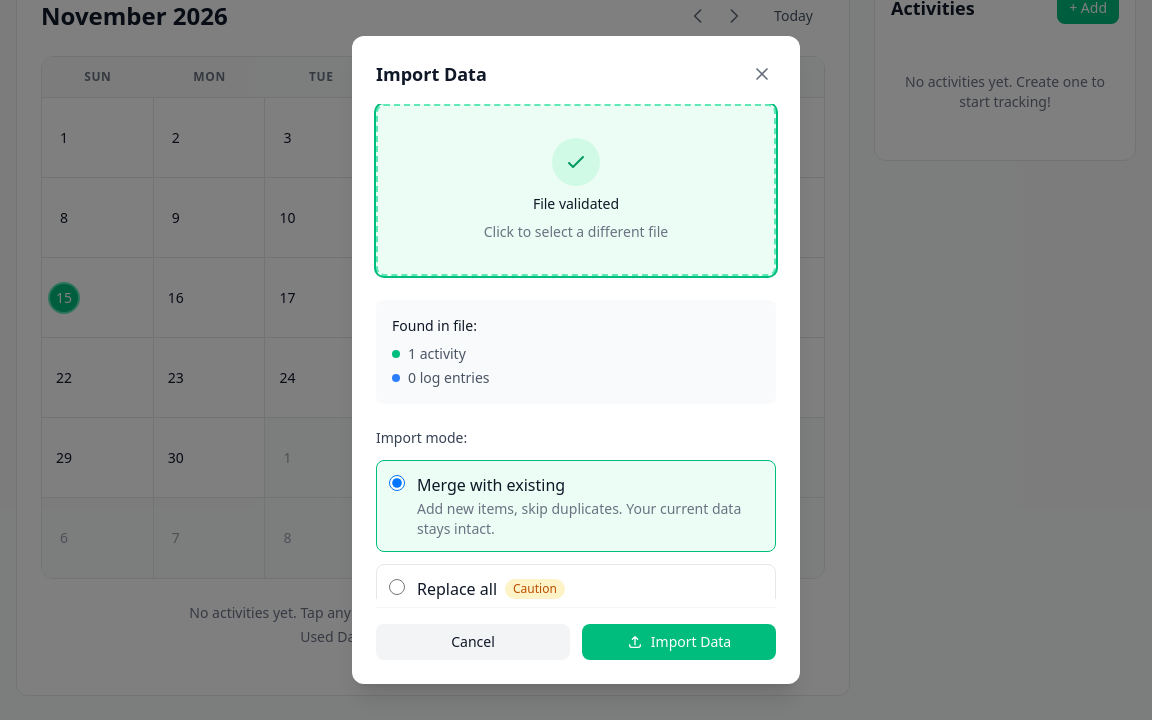
Test: the way into import from an empty app › leaves focus on the month after an import fills the calendar
Earlier steps of the test are not shown.
(page scrolled)
Click the button "Import Data" at (679, 642), box [582,624,776,660]
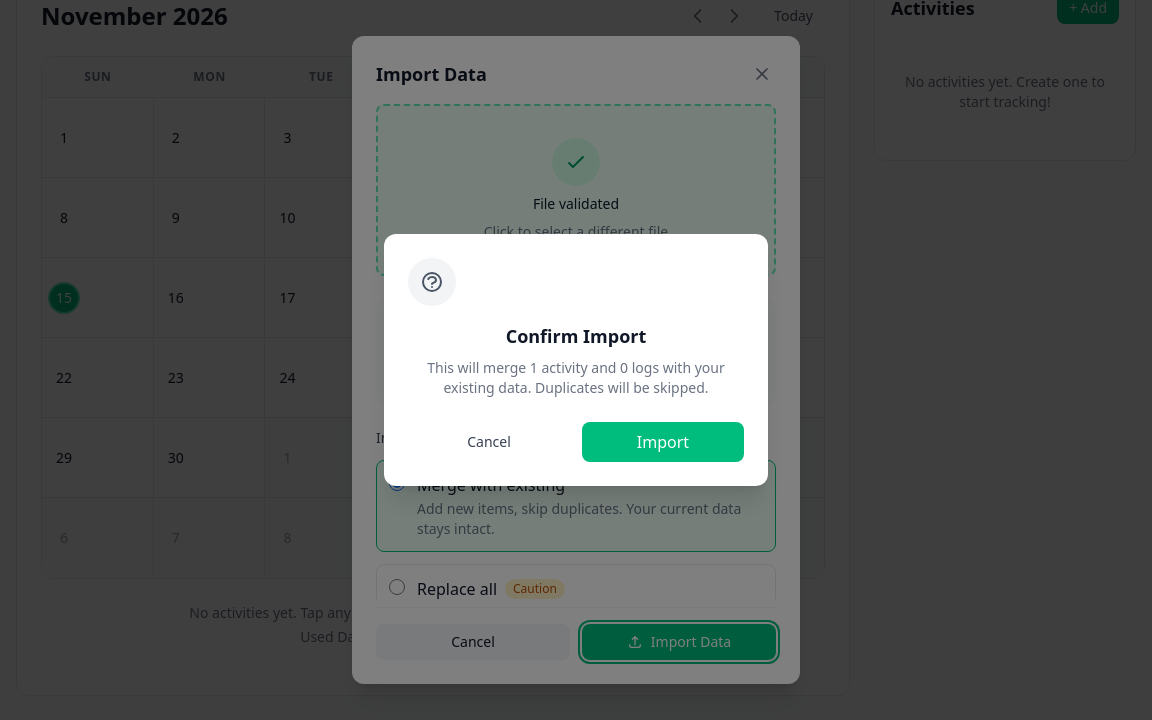
Click the button "Import" at (663, 442), box [582,422,744,462]
(page scrolled)
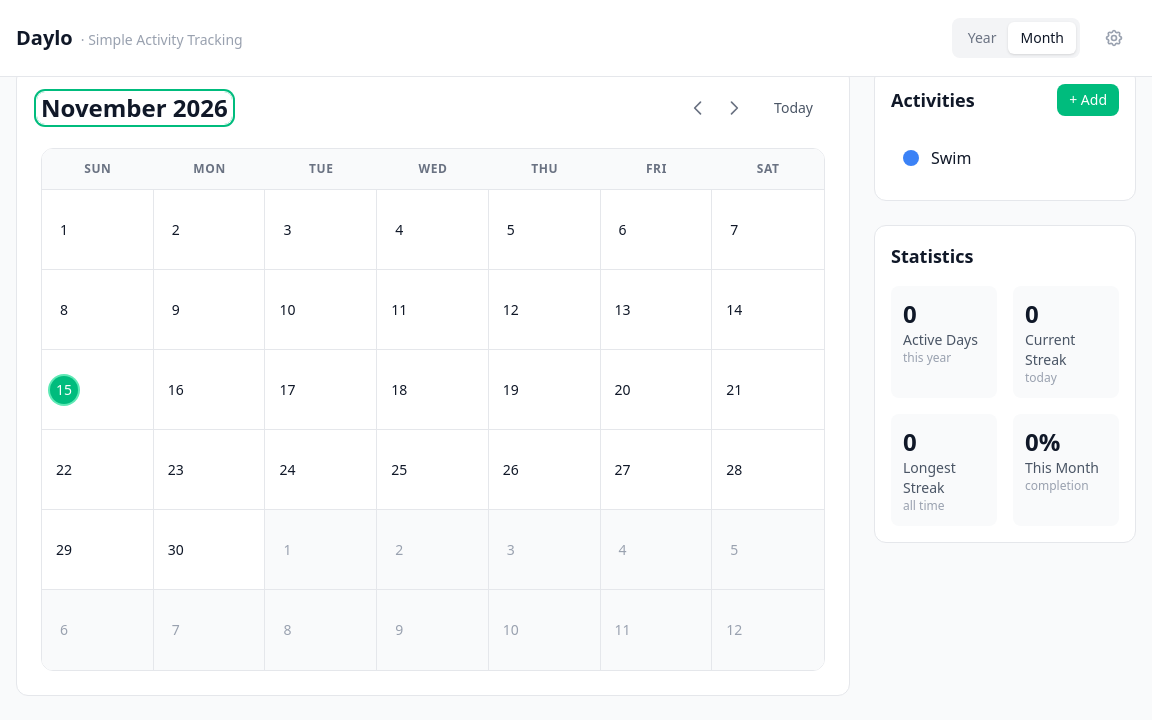
Expected: the button "Import your backup." is gone
